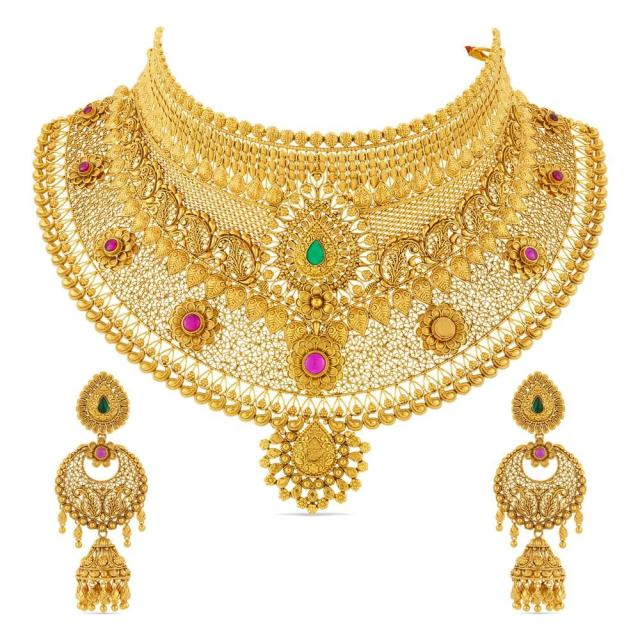missing gem: (436, 319, 455, 337), (307, 438, 321, 461)
